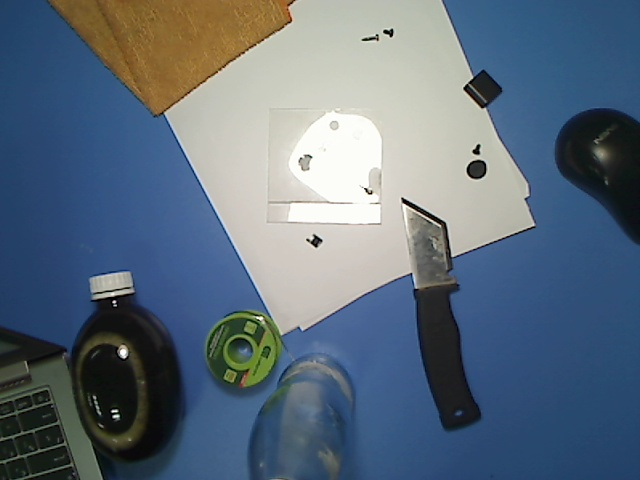plast_bottle: (67, 265, 188, 467)
